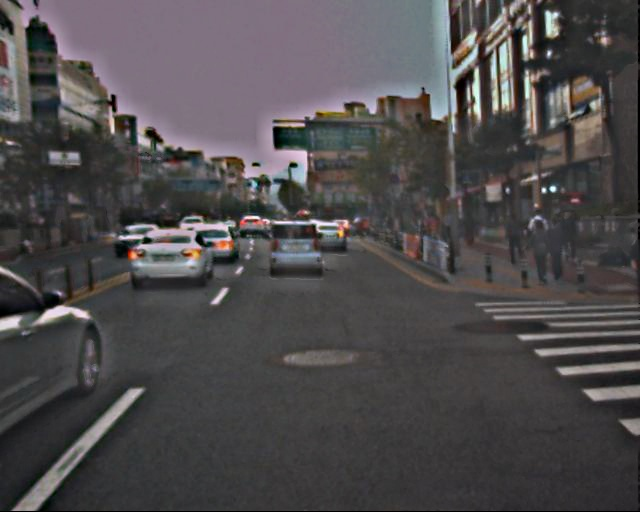person: (405, 212, 476, 252), (525, 222, 551, 285), (543, 213, 569, 276), (621, 228, 640, 308), (528, 208, 553, 268), (558, 206, 580, 259), (501, 213, 522, 265)
